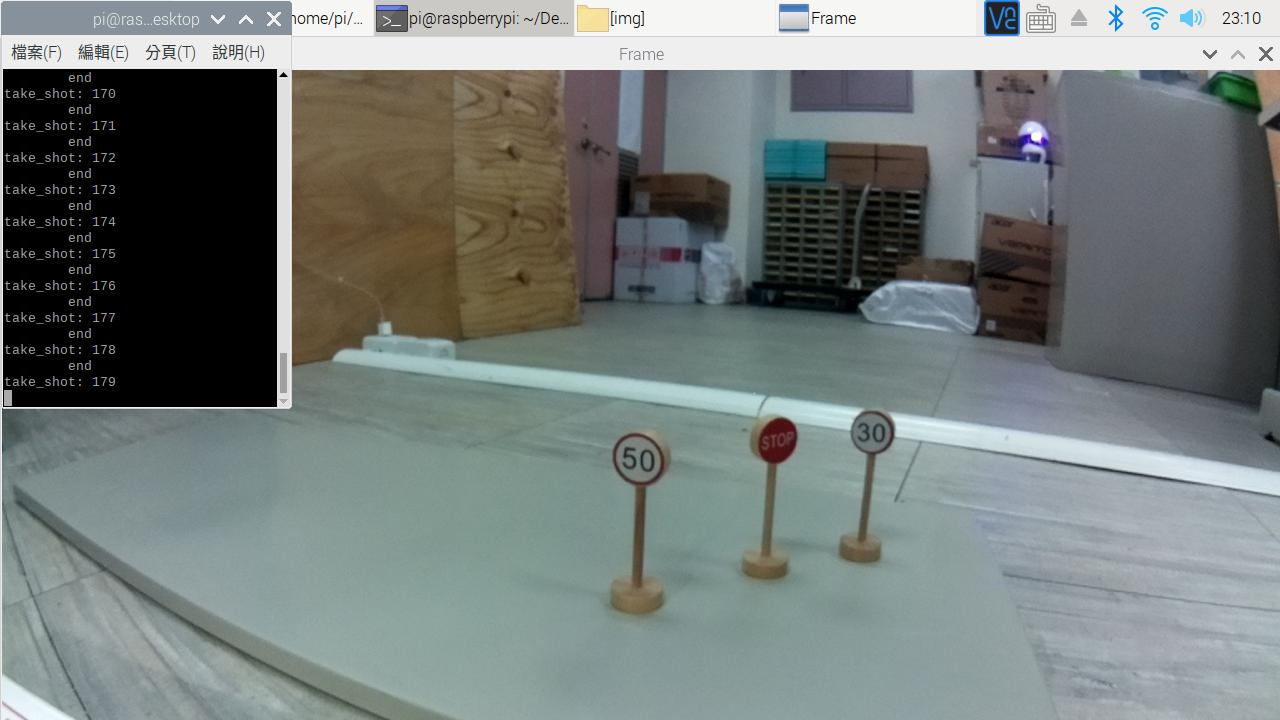Speed30: (837, 404, 909, 465)
Speed50: (599, 425, 679, 496)
Stop: (748, 405, 808, 478)
